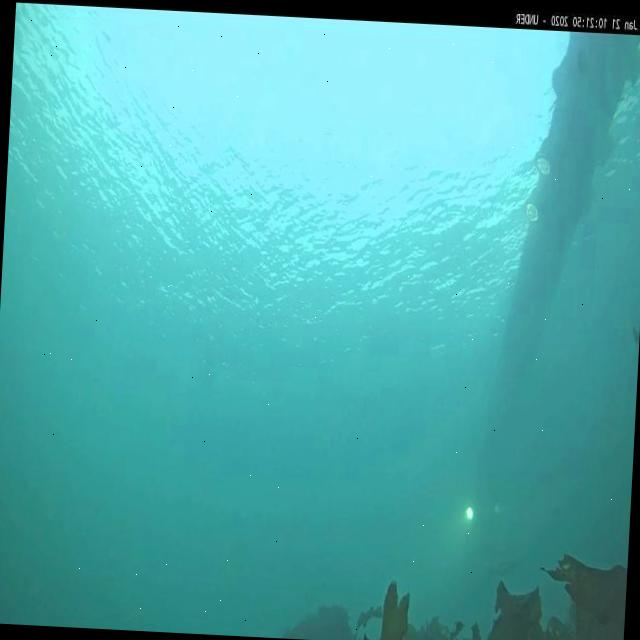fish: (484, 557, 522, 581)
